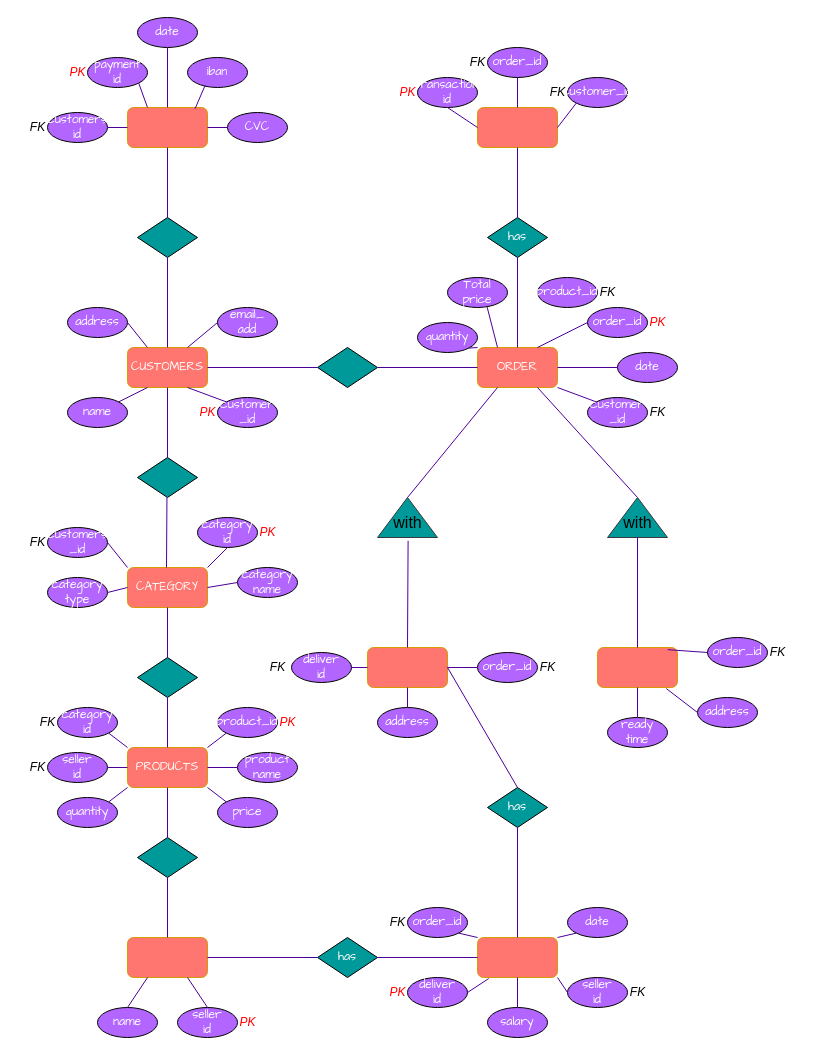
The diagram is 814 pixels wide and 1055 high, and some of its shapes have lost their labels. Each missing label, with the box of its shape:
choose: (136, 456, 198, 498)
DELIVERS: (476, 936, 558, 978)
is: (136, 656, 198, 698)
orders: (316, 346, 378, 388)
PAYMENT: (126, 106, 208, 148)
pays: (136, 216, 198, 258)
SELLER: (126, 936, 208, 978)
sells: (136, 836, 198, 878)
Transaction Reports: (476, 106, 558, 148)
with delivery: (366, 646, 448, 688)
without delivery: (596, 646, 678, 688)
